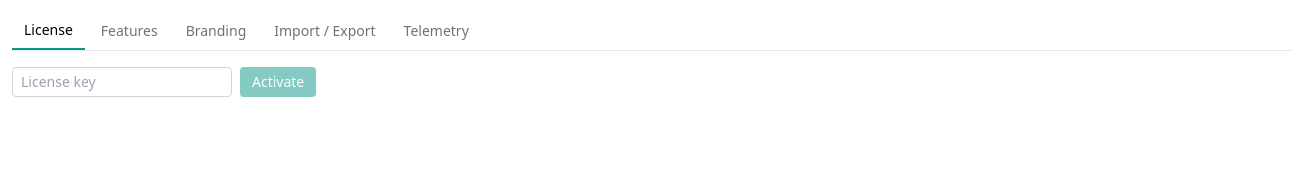
Scenario: CommercialPage › lists feature flags for the current tier
Click the button "Features". click: click(129, 31)
box: [89,12,170,50]
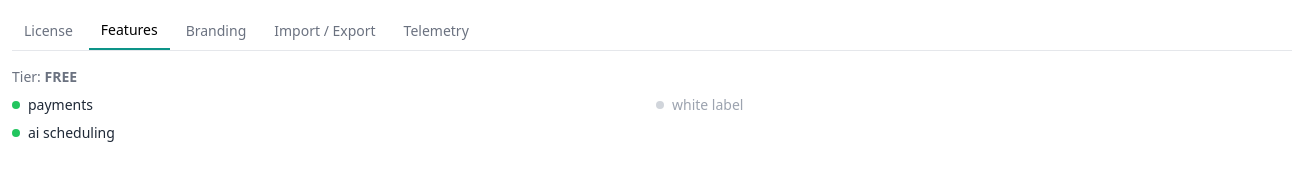
Check: the text "payments" is shown, box [28,95,93,115]
Check: the text "white label" is shown, box [672,95,744,115]
